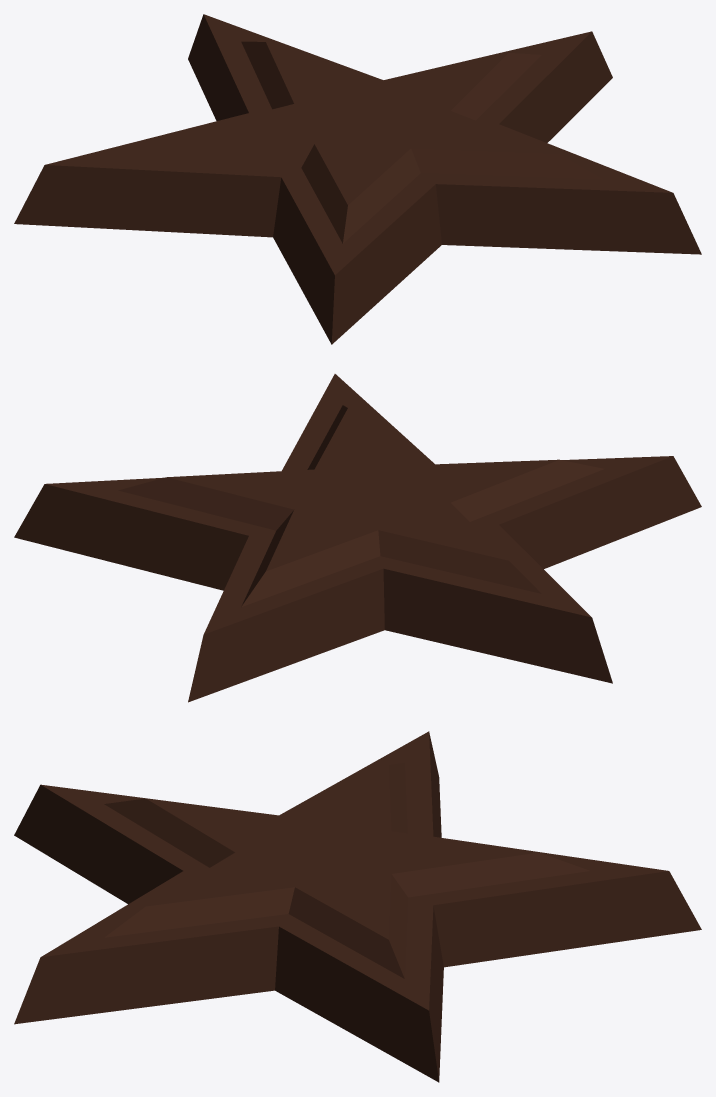
Rendered from Chocohongo.fbx.
3 renders of one model, top to bottom at view 1: azimuth 30°, elevation 25°; view 2: azimuth 150°, elevation 25°; view 3: azimuth 270°, elevation 25°, orthographic. The views are drawn at different scales.
Visible parts, largest first — view 1: Circle; view 2: Circle; view 3: Circle.
Part boxes in pixels (x1,y1,x2,y2): Circle: (14, 14, 701, 344); Circle: (14, 374, 701, 702); Circle: (14, 731, 701, 1082).
Bounding box in the file's own units: 190 × 22.45 × 181.
